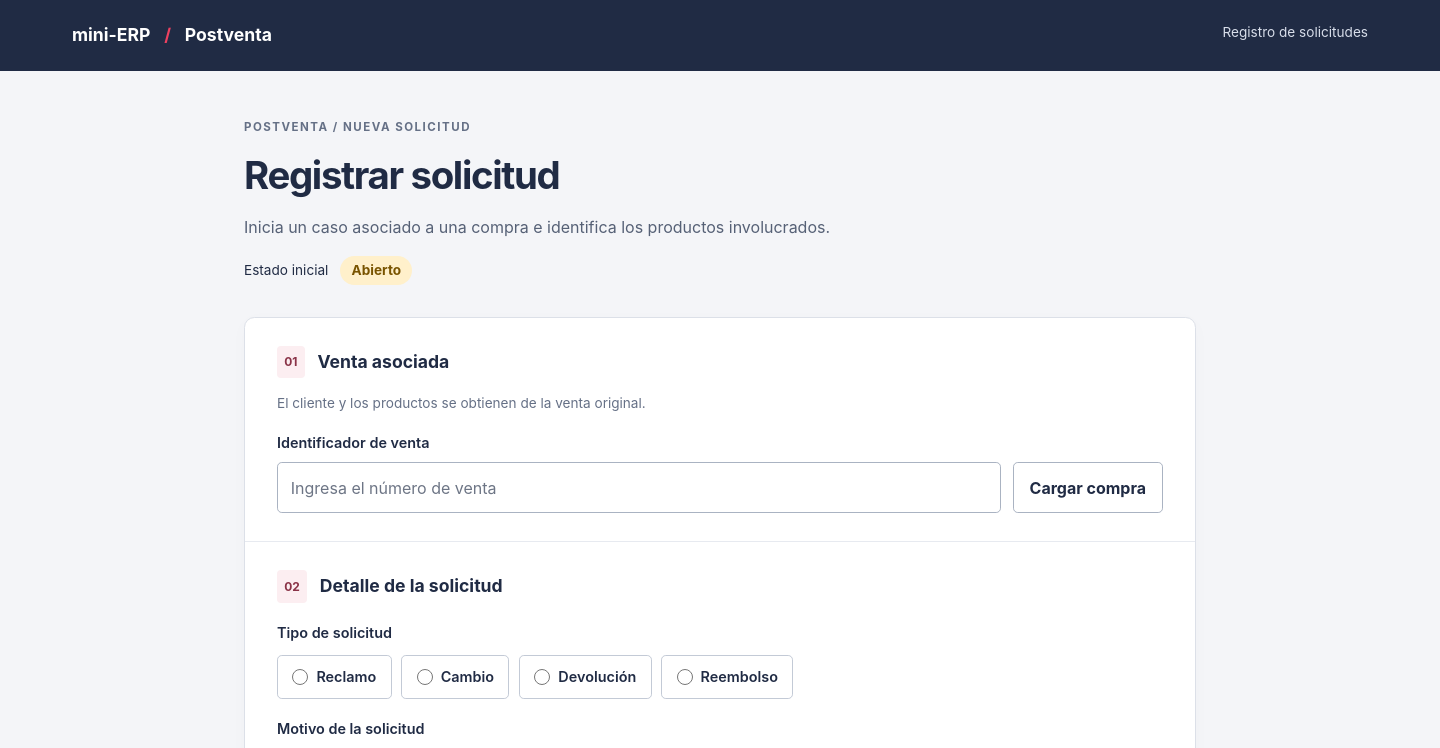
HU-01: formulario de registro › informa que los datos compartidos no están disponibles sin inventar una compra
The image size is (1440, 748).
Type "10" into the number field labelled "Identificador de venta" at (639, 488), box [277, 462, 1001, 513]
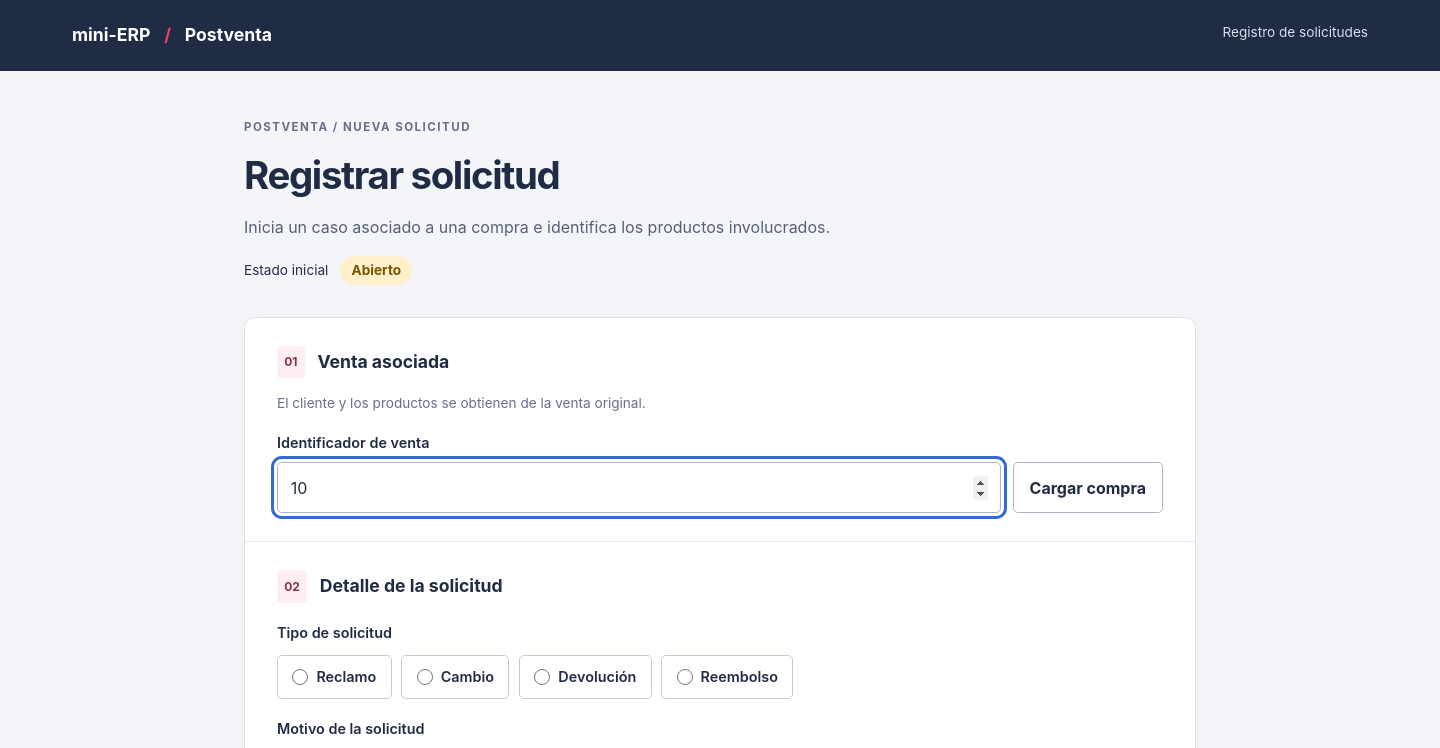
Click the button "Cargar compra" at (1088, 488), box [1012, 462, 1163, 513]
(page scrolled)
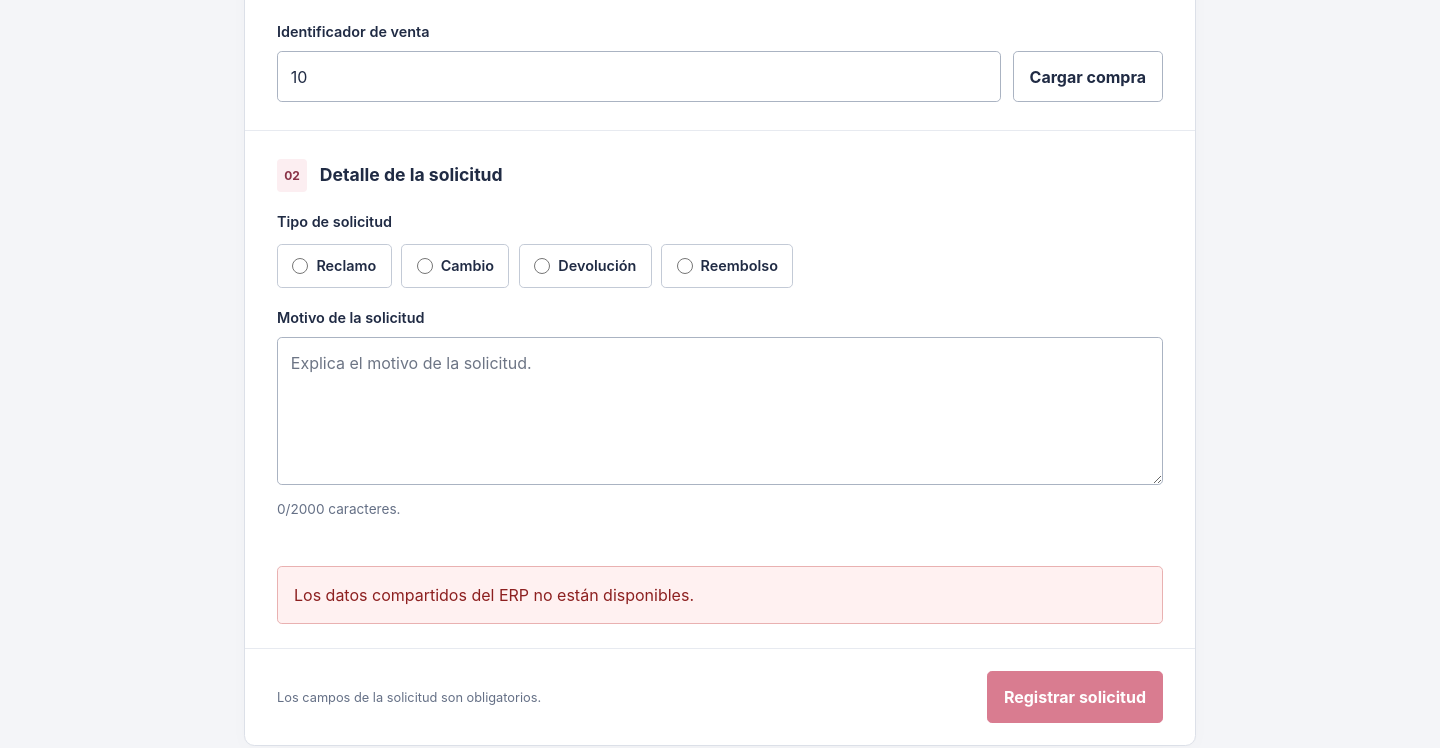
expect the button "Registrar solicitud" is disabled: met, box [987, 672, 1163, 723]
expect the message shows "no están disponibles": met, box [294, 585, 694, 605]
